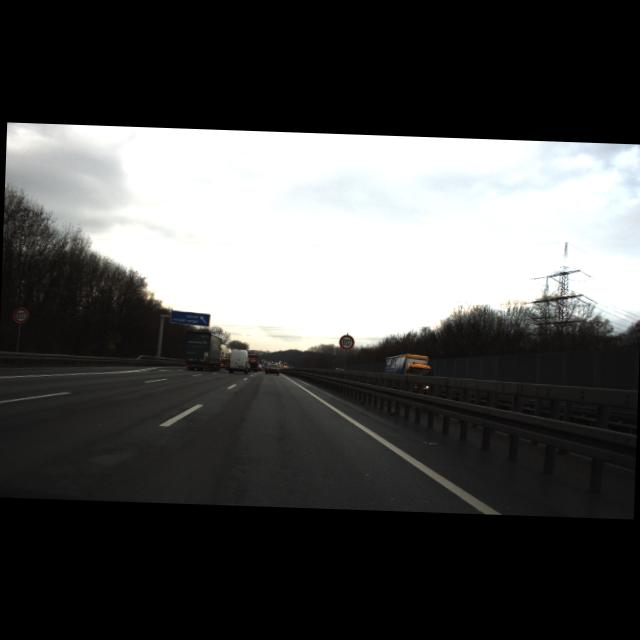prohibitory: (12, 306, 30, 323), (338, 334, 355, 351)
